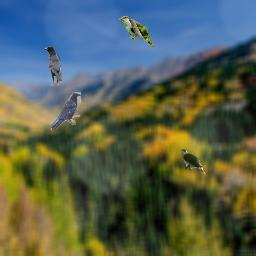Crow: (50, 92, 81, 132), (44, 46, 62, 86)
Cuckoo: (117, 16, 157, 47), (179, 148, 207, 176)
